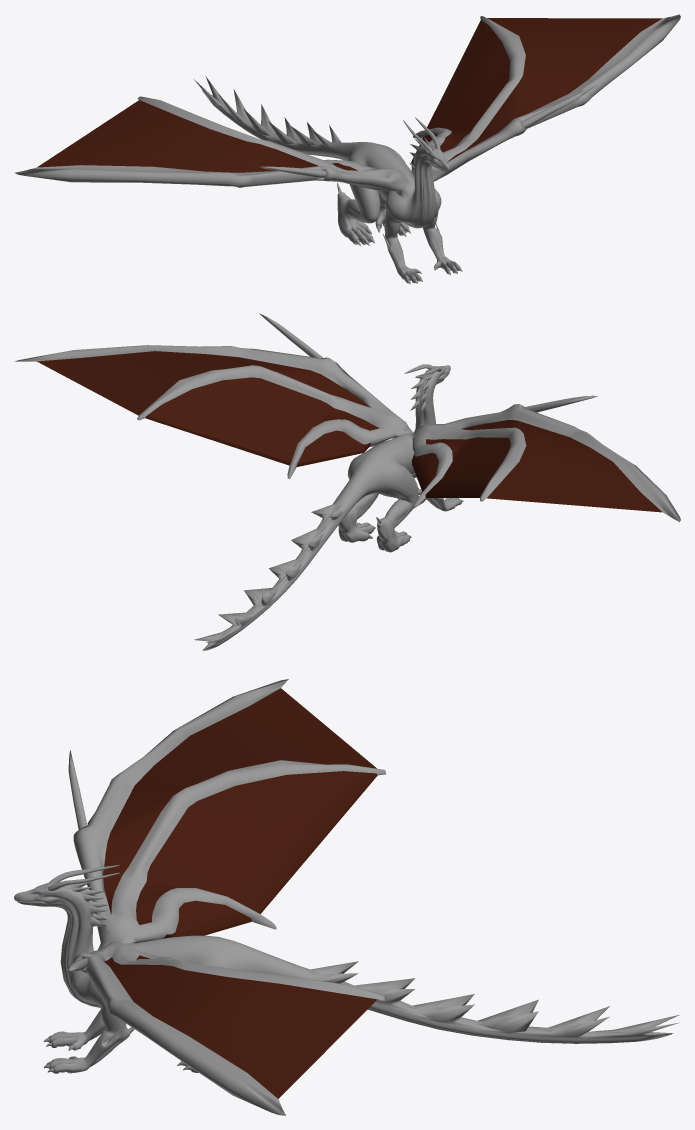
Rendered from Dragon.obj.
The picture shows the model from 3 angles, top to bottom: view 1: azimuth 30°, elevation 25°; view 2: azimuth 150°, elevation 25°; view 3: azimuth 270°, elevation 25°; orthographic projection. The views are drawn at different scales.
Visible parts, largest first — view 1: Cube; view 2: Cube; view 3: Cube.
Part boxes in pixels (box(x1,y1,x2,y2)): Cube: box(14, 14, 680, 284); Cube: box(15, 313, 680, 650); Cube: box(14, 679, 679, 1115).
Bounding box in the file's own units: 151 × 32.15 × 98.22.
